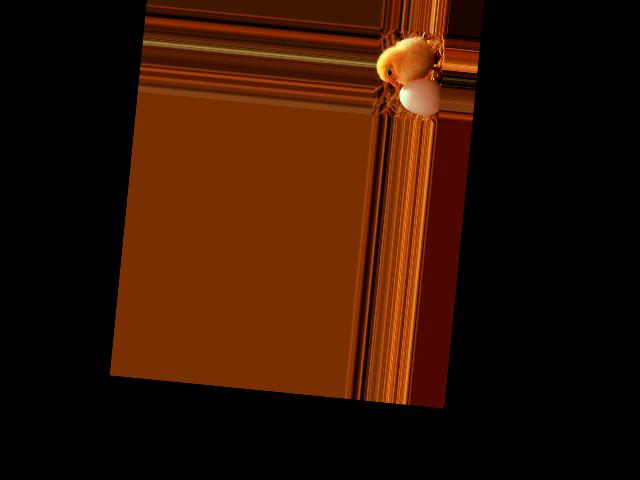egg: (397, 75, 443, 116)
